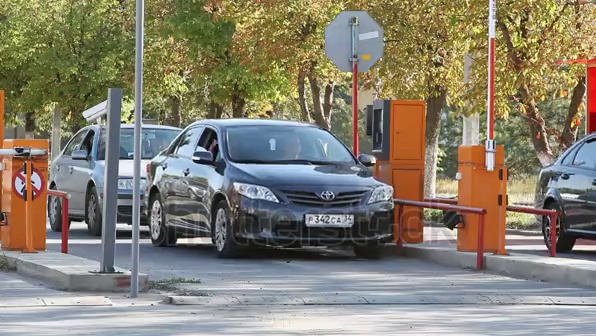licenseplate: (309, 216, 355, 229)
